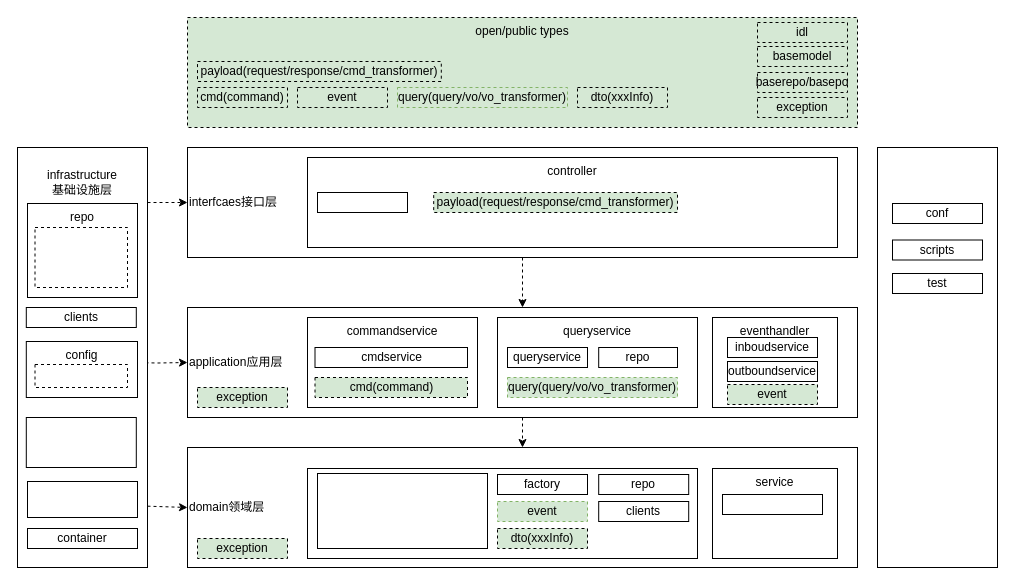
Image size: 1015x585. Some labels were removed from this diagram. The shapes that lost their labels are listed below. From the top down, each one's centre as x and y in pixels, then its label:
pixel 362 202: rest/rpc/job/cli
pixel 81 257: po/repository/ query_repo/ po_transformer/ db_selector
pixel 81 376: cache/db/event...
pixel 80 442: middleware exceptionhandler/ requestlogmw...
pixel 82 499: utils encrypt/retry...
pixel 402 510: model aggregateroot | entity | valueobject
pixel 772 504: domainservice
